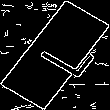L_NW: (20, 28, 90, 82)
